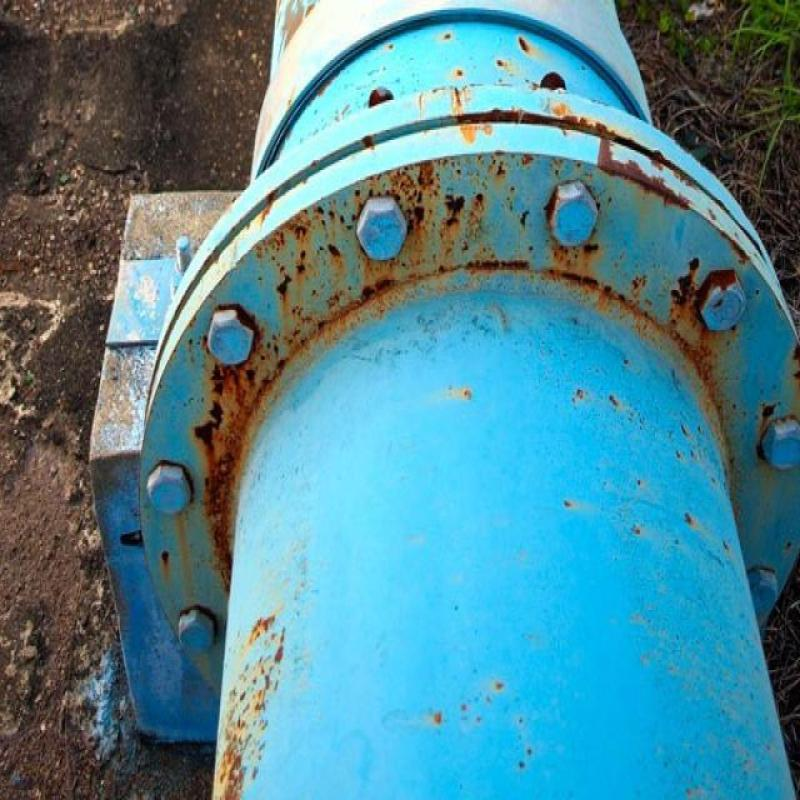Healthy: (235, 2, 800, 800), (300, 418, 700, 750)
